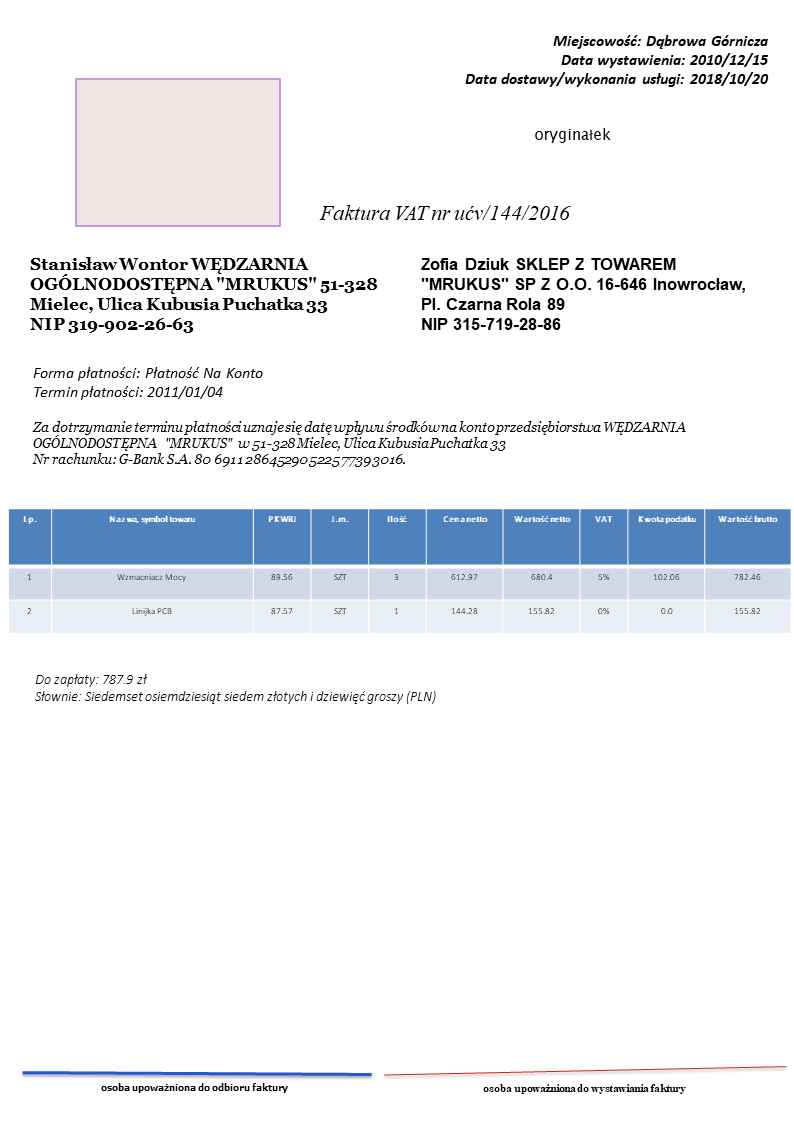Table: (8, 508, 792, 633)
TextBox: (30, 418, 689, 468), (26, 253, 381, 337), (418, 253, 750, 334), (462, 32, 773, 91), (32, 669, 441, 708), (29, 364, 265, 401), (316, 199, 574, 226), (479, 1079, 689, 1097), (99, 1078, 290, 1095), (532, 125, 612, 147)
